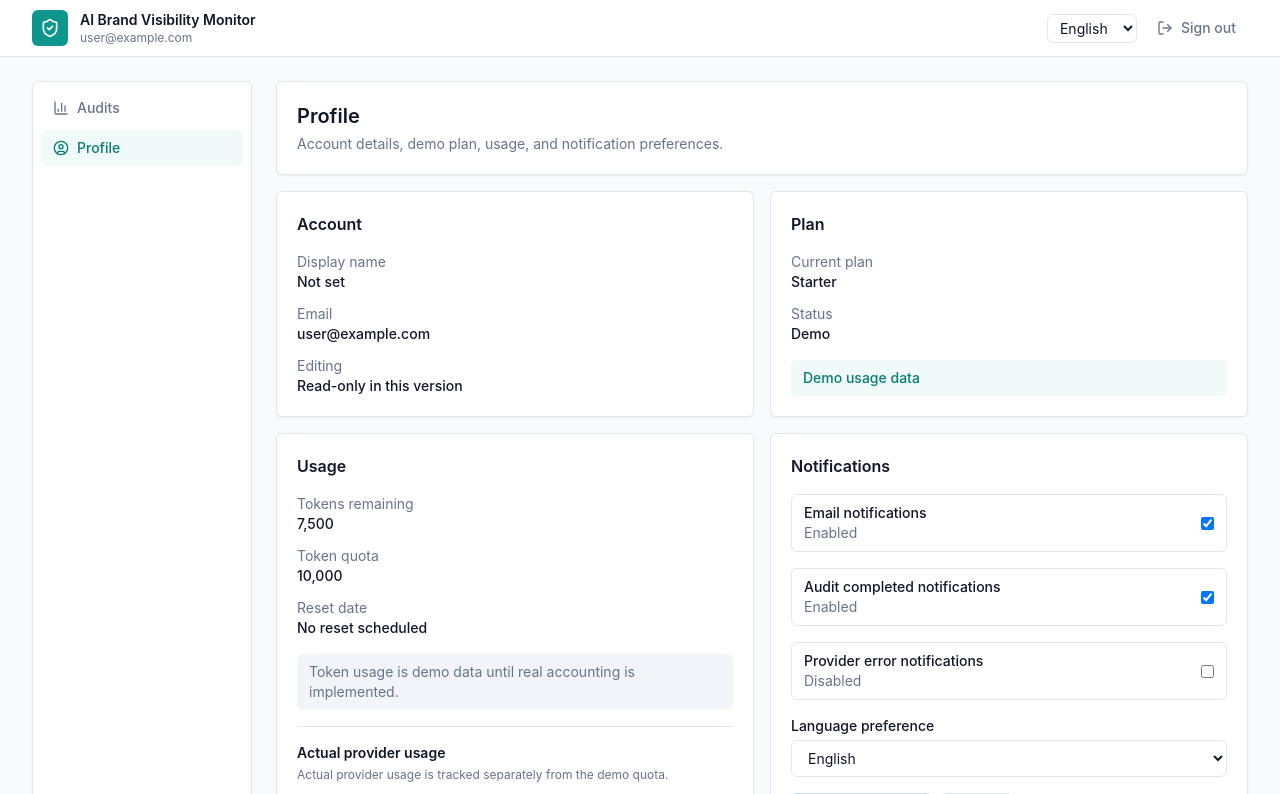
ProfilePage › cancels unsaved preference changes
Check: the heading "Profile" is shown, box [297,104,360,128]
Click the checkbox labelled "Email notifications Enabled" at (1208, 523), box [1201,516,1214,530]
(page scrolled)
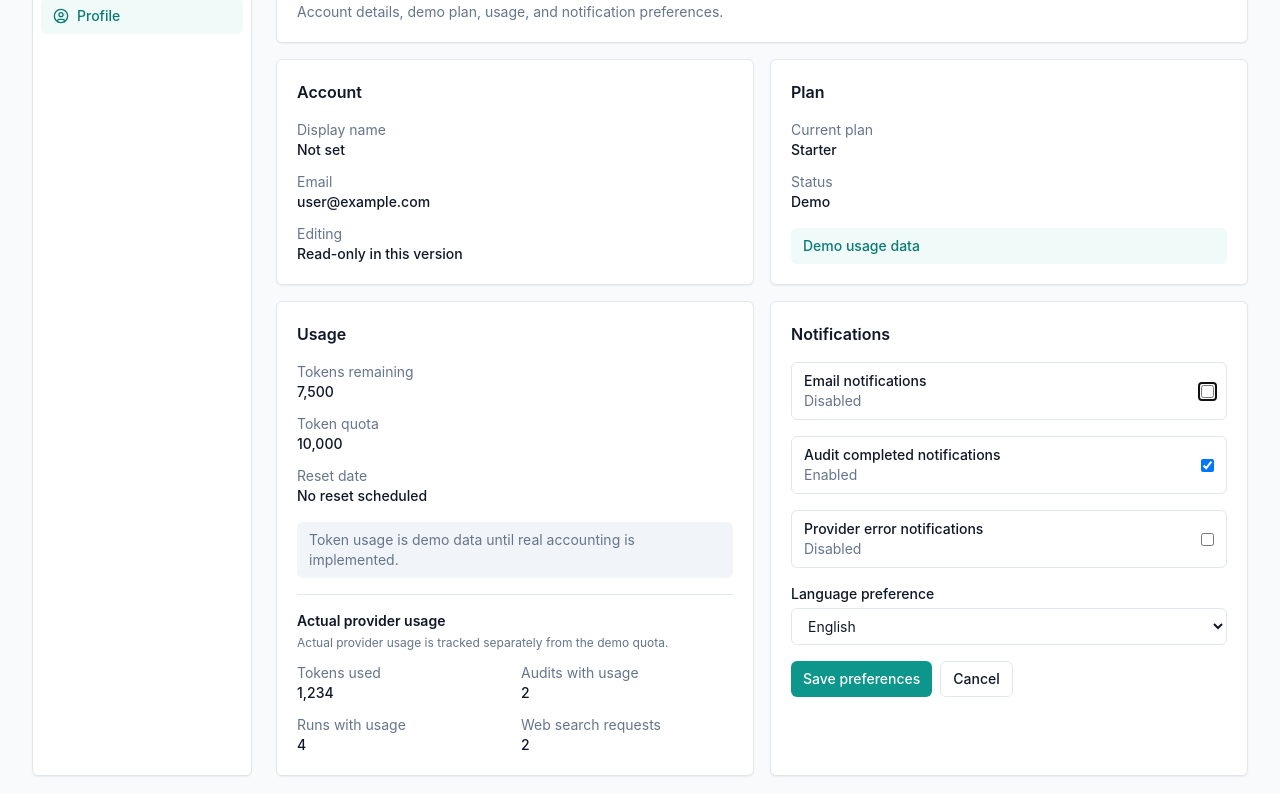
Check: the checkbox labelled "Email notifications Disabled" is not checked, box [1201,384,1214,398]
Click the button "Cancel" at (977, 679), box [940,661,1013,697]
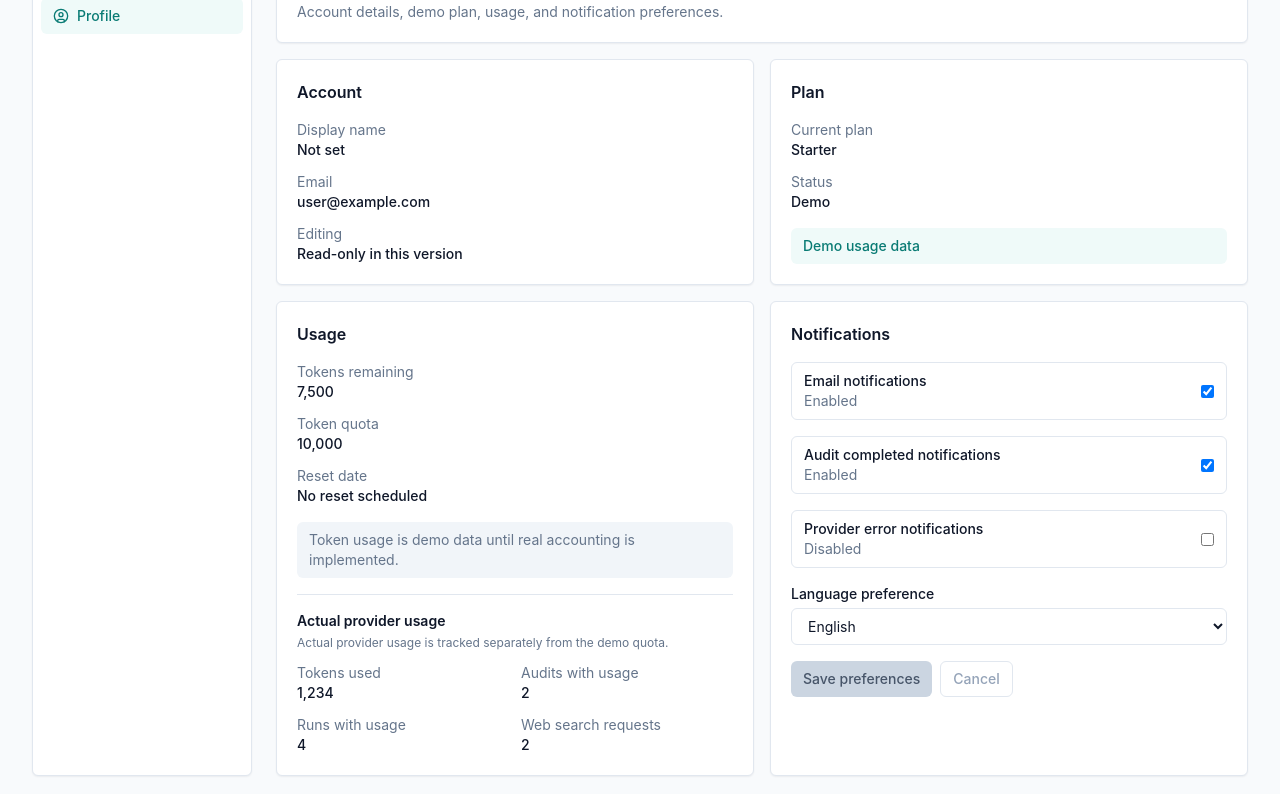
Check: the checkbox labelled "Email notifications Enabled" is checked, box [1201,384,1214,398]
Check: the button "Save preferences" is disabled, box [791,661,932,697]
